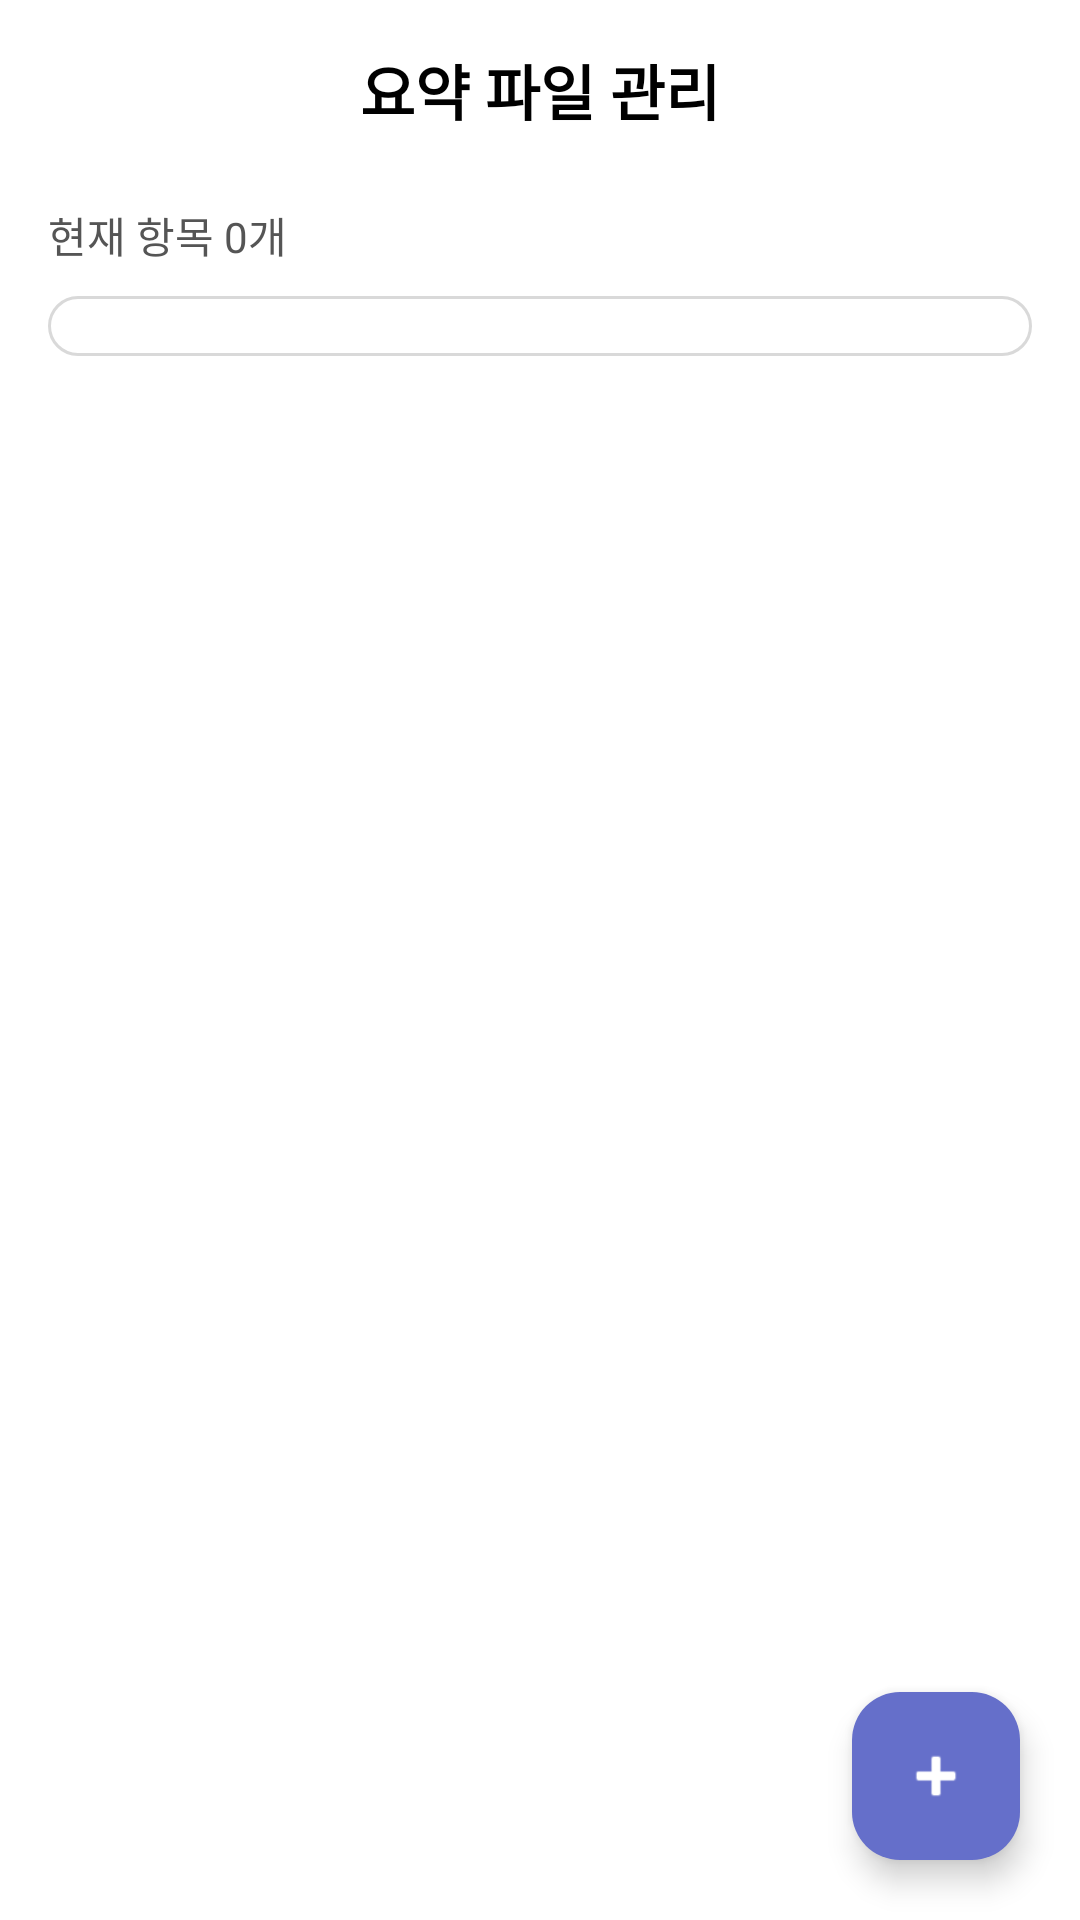

Screen size 1080px×1920px. Icon name, then its box in pixels as (x1, y1, x2, y2):
새 폴더 만들기: (852, 1692, 1020, 1860)
